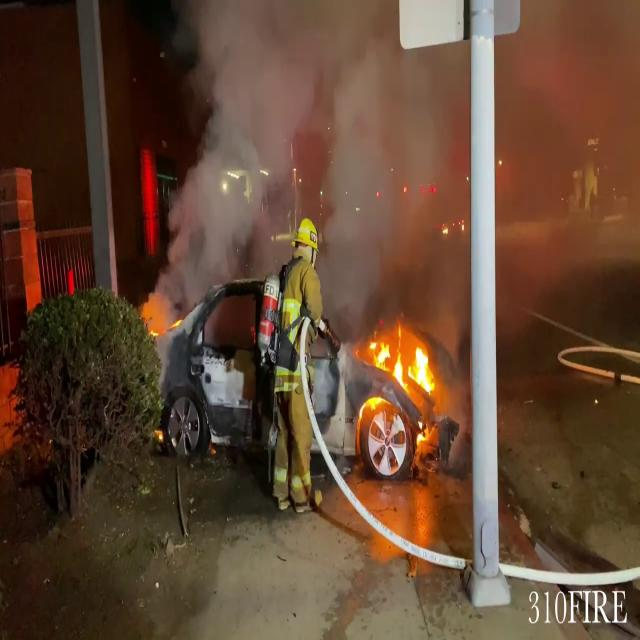Fire: (358, 322, 442, 401)
Smoke: (162, 0, 469, 295)
